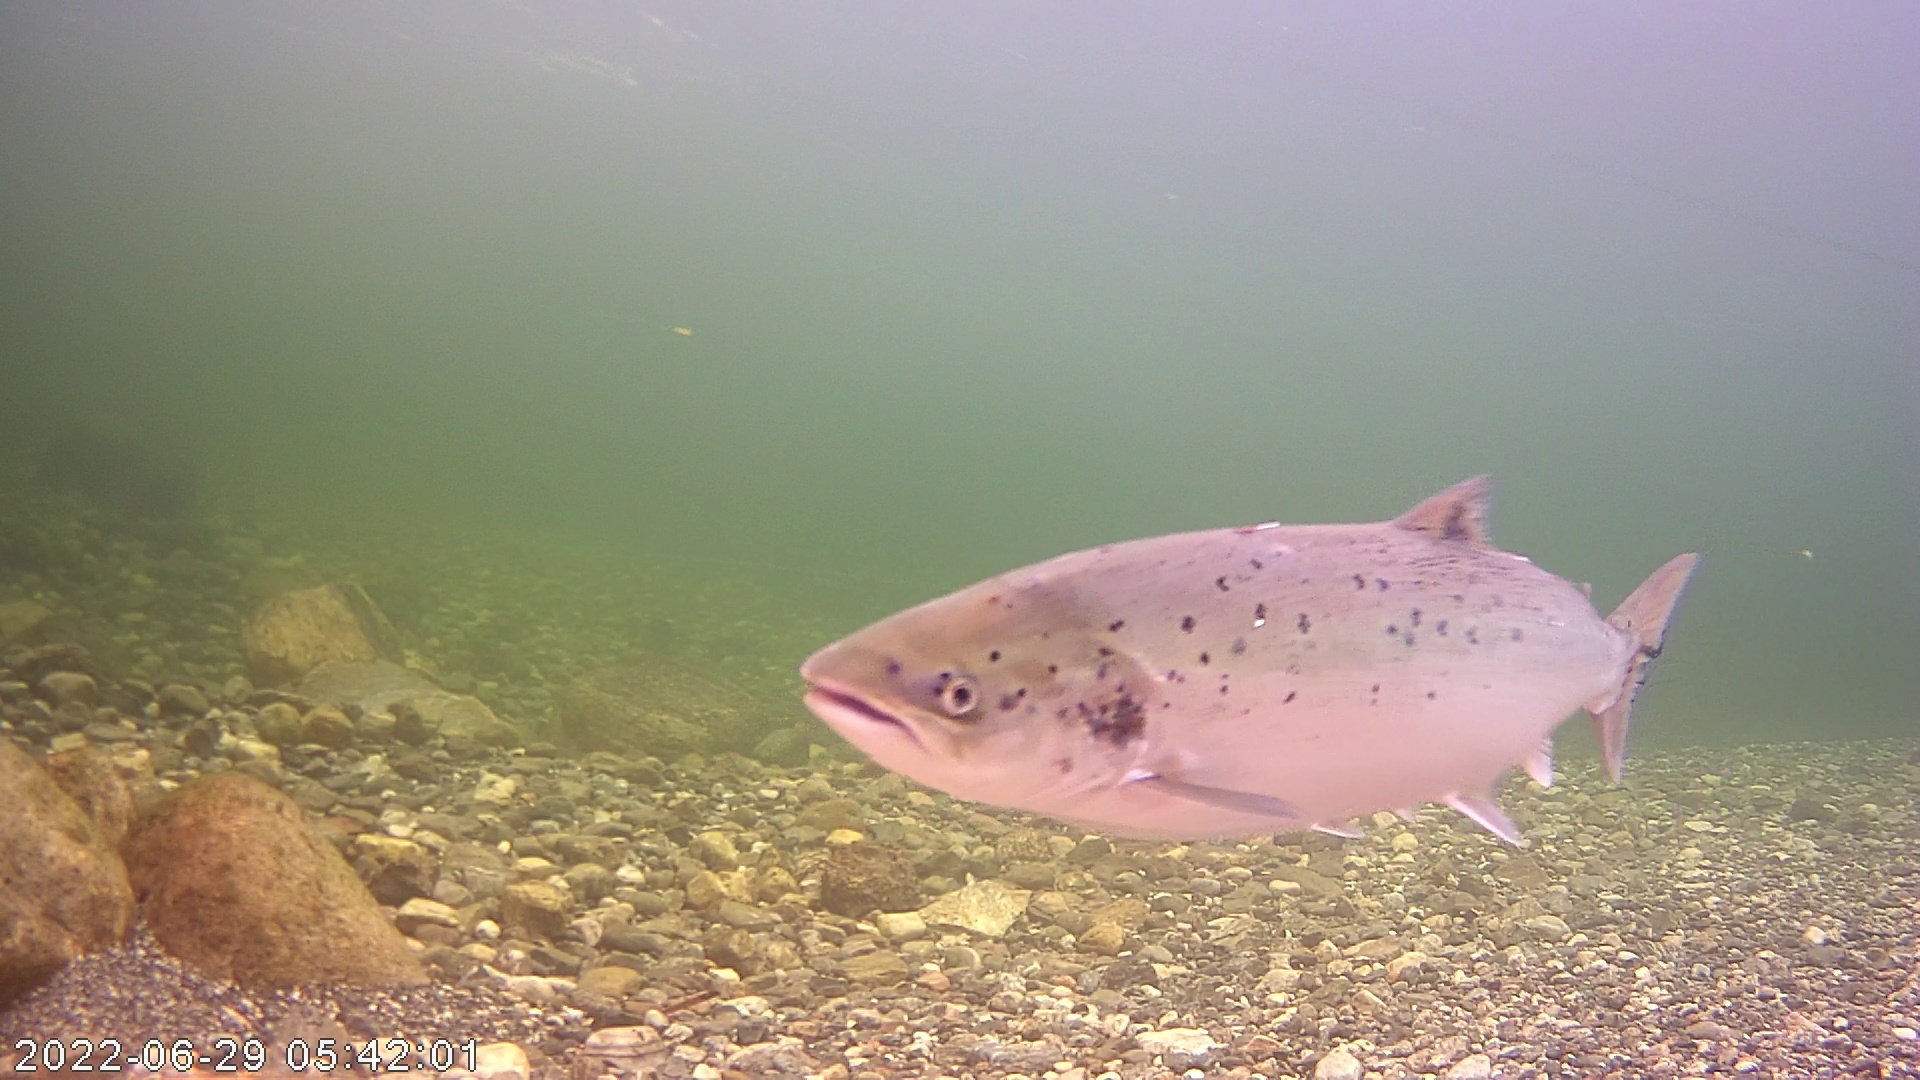salmon: (789, 367, 1705, 872)
